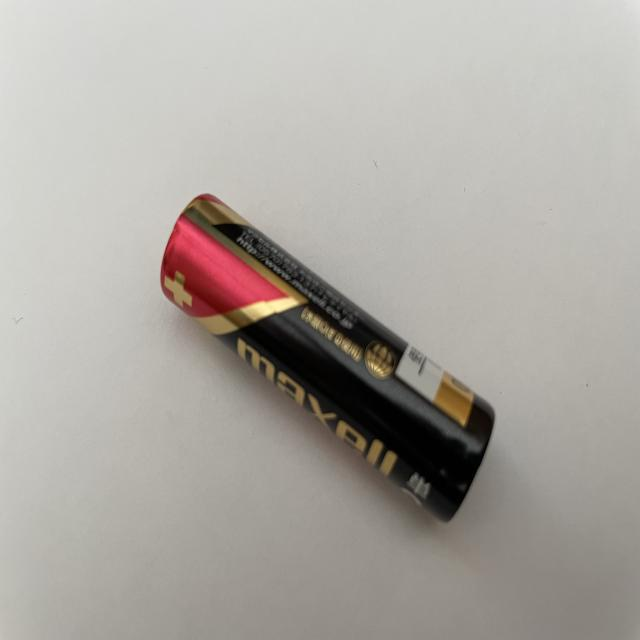AA: (159, 192, 495, 523)
